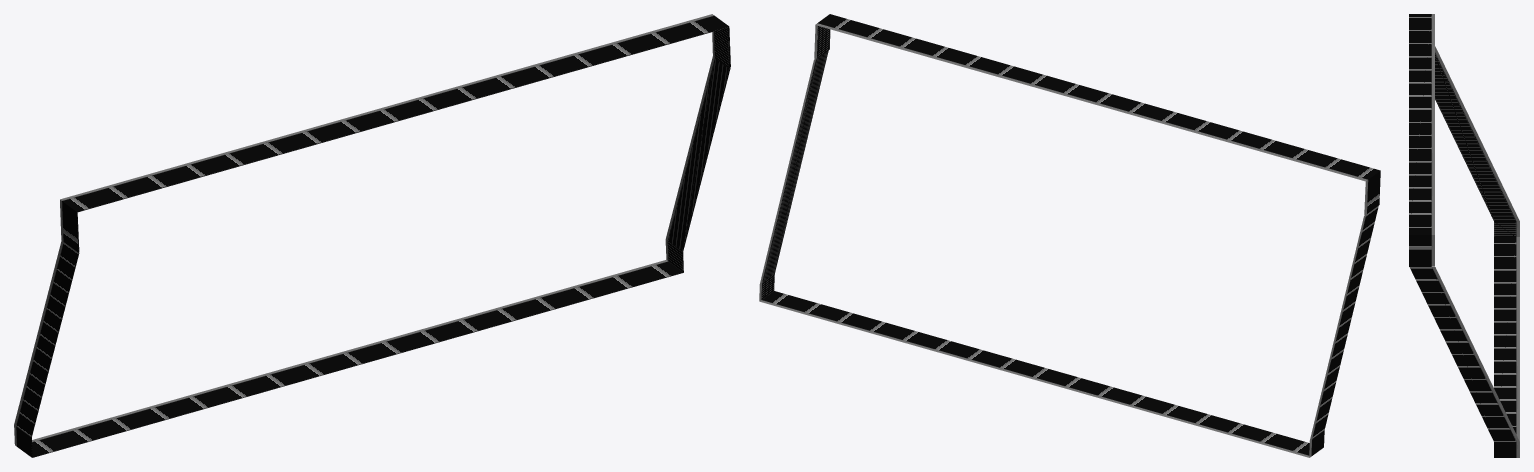
The picture shows the model from 3 angles, left to right: view 1: azimuth 30°, elevation 25°; view 2: azimuth 150°, elevation 25°; view 3: azimuth 270°, elevation 25°; orthographic projection. The views are drawn at different scales.
Visible parts, largest first — view 1: _0TRIBUENE_02_027_SUB0_Scene.582; view 2: _0TRIBUENE_02_027_SUB0_Scene.582; view 3: _0TRIBUENE_02_027_SUB0_Scene.582.
Boxes of the visible parts, left/top/right/bottom form: _0TRIBUENE_02_027_SUB0_Scene.582: left=14, top=14, right=730, bottom=457; _0TRIBUENE_02_027_SUB0_Scene.582: left=759, top=14, right=1380, bottom=457; _0TRIBUENE_02_027_SUB0_Scene.582: left=1409, top=14, right=1519, bottom=457.
Bounding box in the file's own units: 3359 × 1530 × 642.
